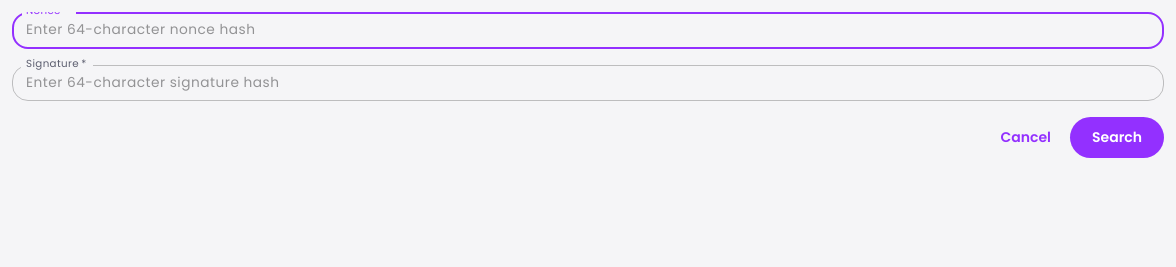
Test: SearchKernel › should clear error messages when valid input is provided
# First trigger error
Click the button "Search" at (1117, 138), box [1070,117,1164,158]
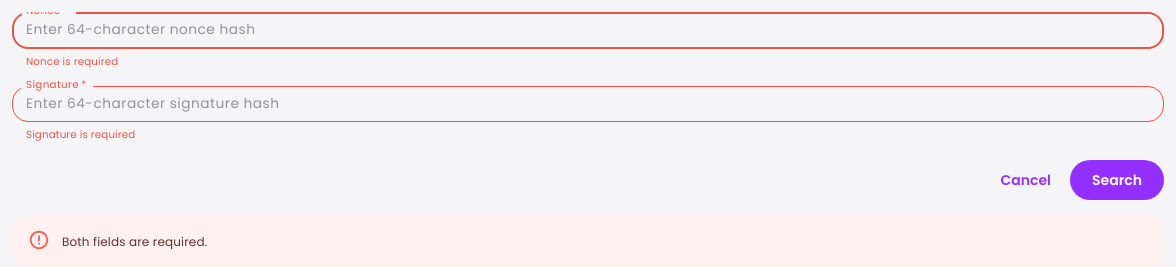
Expected: the text "Both fields are required." is shown, [62,233,207,250]
Type "1234567890abcdef1234567890abcdef1234567890abcdef1234567890abcdef" into the field labelled "Nonce *" at (588, 30), box [12,12,1164,49]
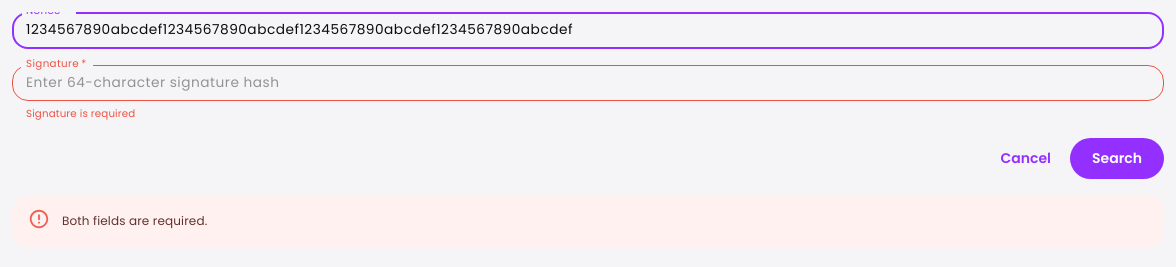
Type "fedcba0987654321fedcba0987654321fedcba0987654321fedcba0987654321" into the field labelled "Signature *" at (588, 83), box [12,65,1164,101]
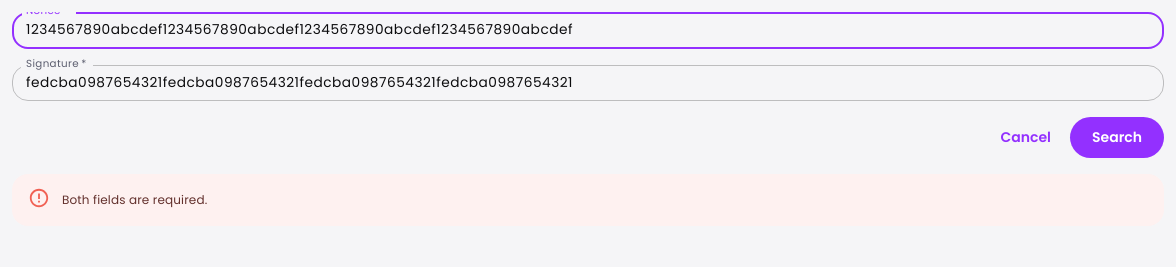
Click the button "Search" at (1117, 138), box [1070,117,1164,158]
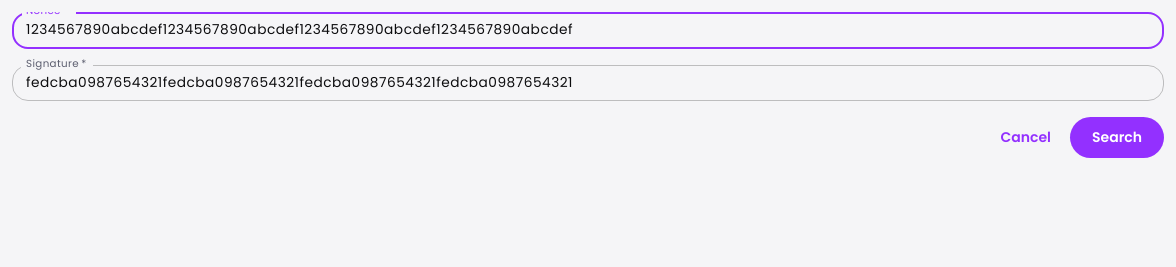
Expected: the text "Both fields are required." is gone
